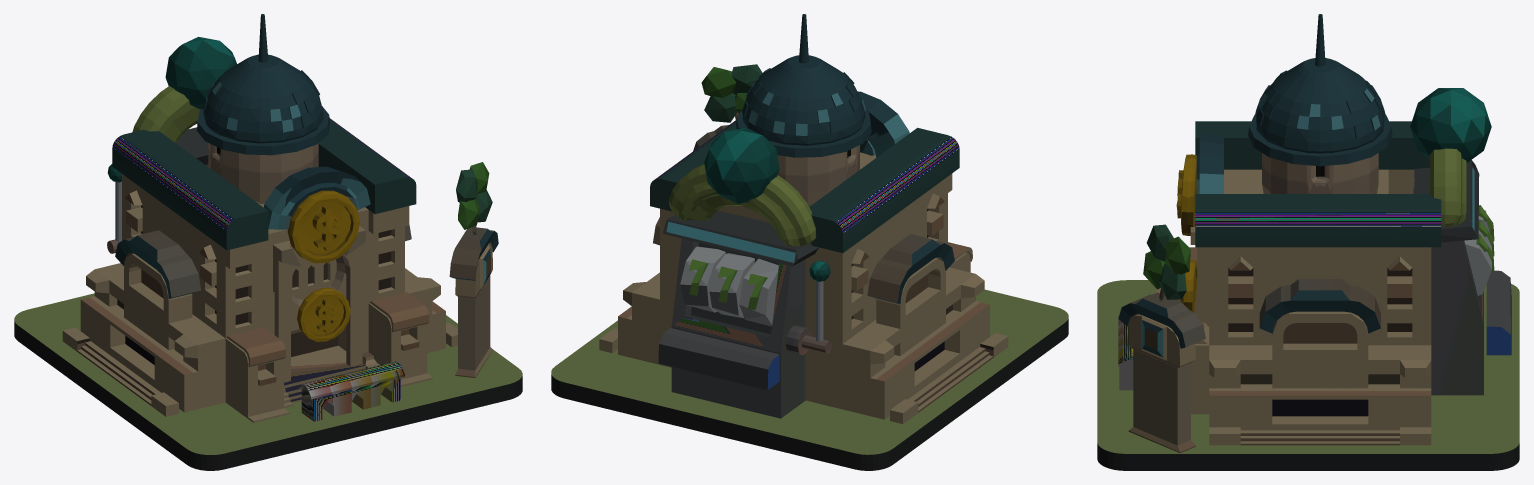
The picture shows the model from 3 angles, left to right: view 1: azimuth 30°, elevation 25°; view 2: azimuth 150°, elevation 25°; view 3: azimuth 270°, elevation 25°; orthographic projection. The views are drawn at different scales.
Parts seen in each view (by area): view 1: Plane.001; view 2: Plane.001; view 3: Plane.001.
Part boxes in pixels (x1=…): Plane.001: x1=14, y1=14, x2=522, y2=470; Plane.001: x1=551, y1=14, x2=1068, y2=470; Plane.001: x1=1097, y1=14, x2=1519, y2=470.
Bounding box in the file's own units: 2.98 × 2.89 × 3.
Materials: 1 (1 with a texture image).
